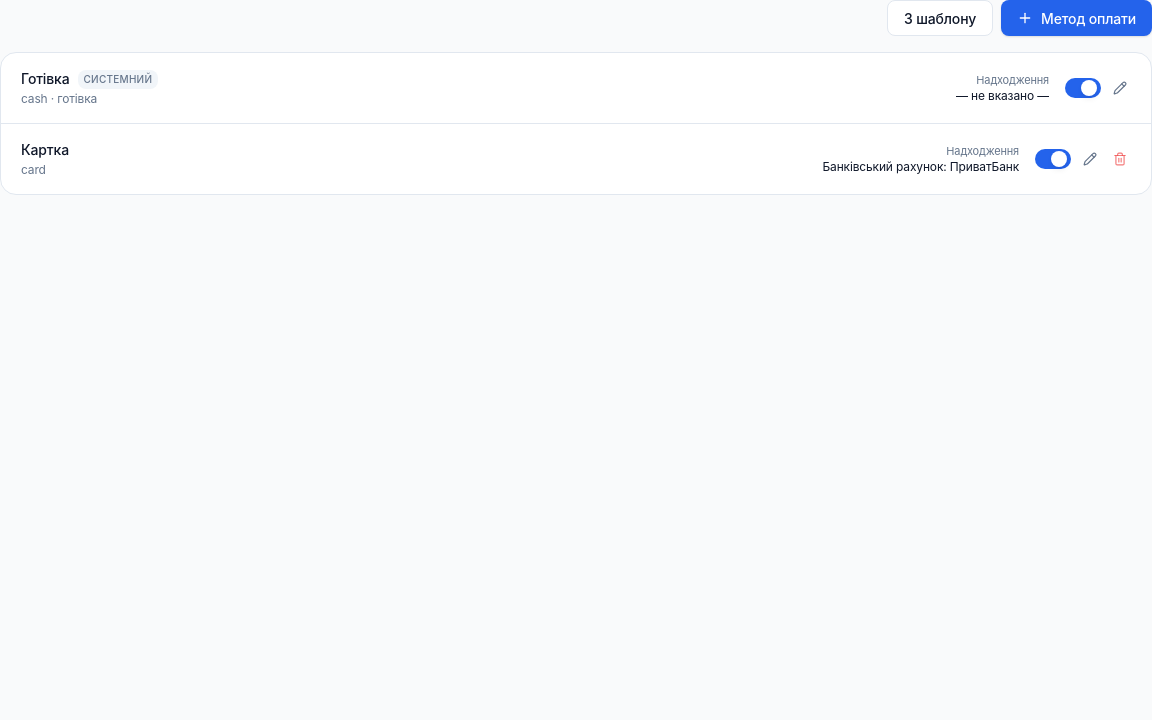
Scenario: НДІ → способи оплати: куди надходять кошти › «Готівці» задають касу: без вибраної каси зберегти не можна; запит несе тип і касу
Click the button named "Редагувати метод оплати: Готівка" at (1120, 88), box [1109,77,1131,99]
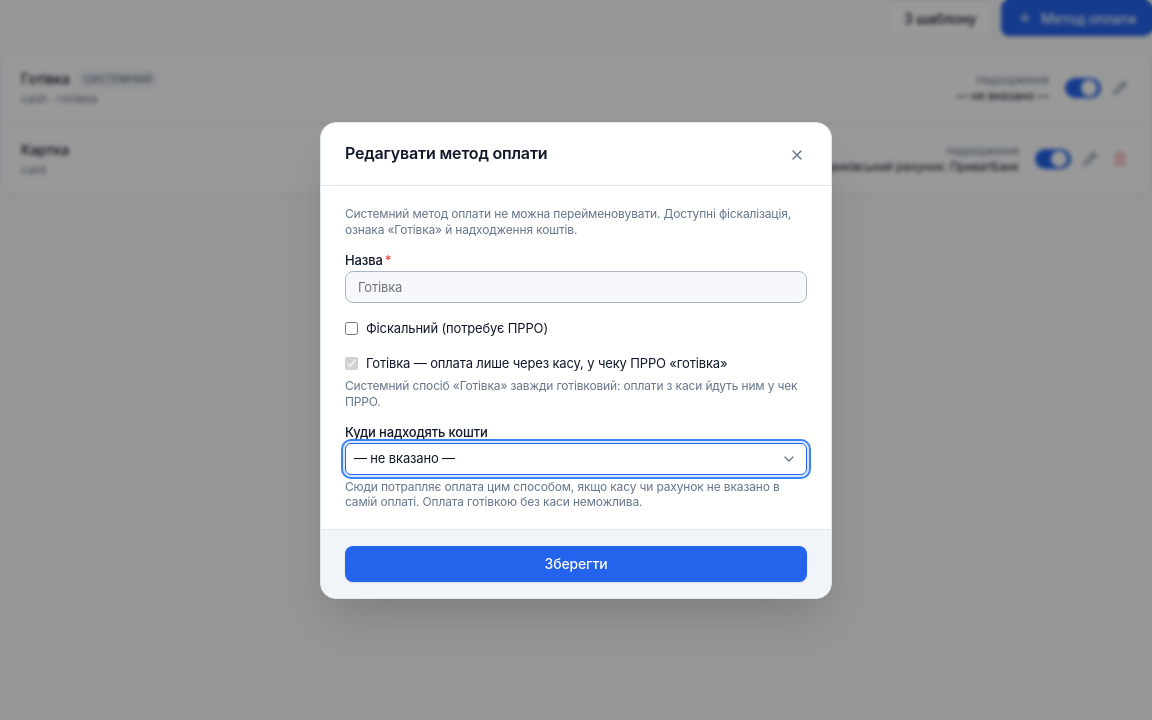
Select "Каса" in the dropdown labelled "Куди надходять кошти" at (576, 458), box [345,442,807,474]
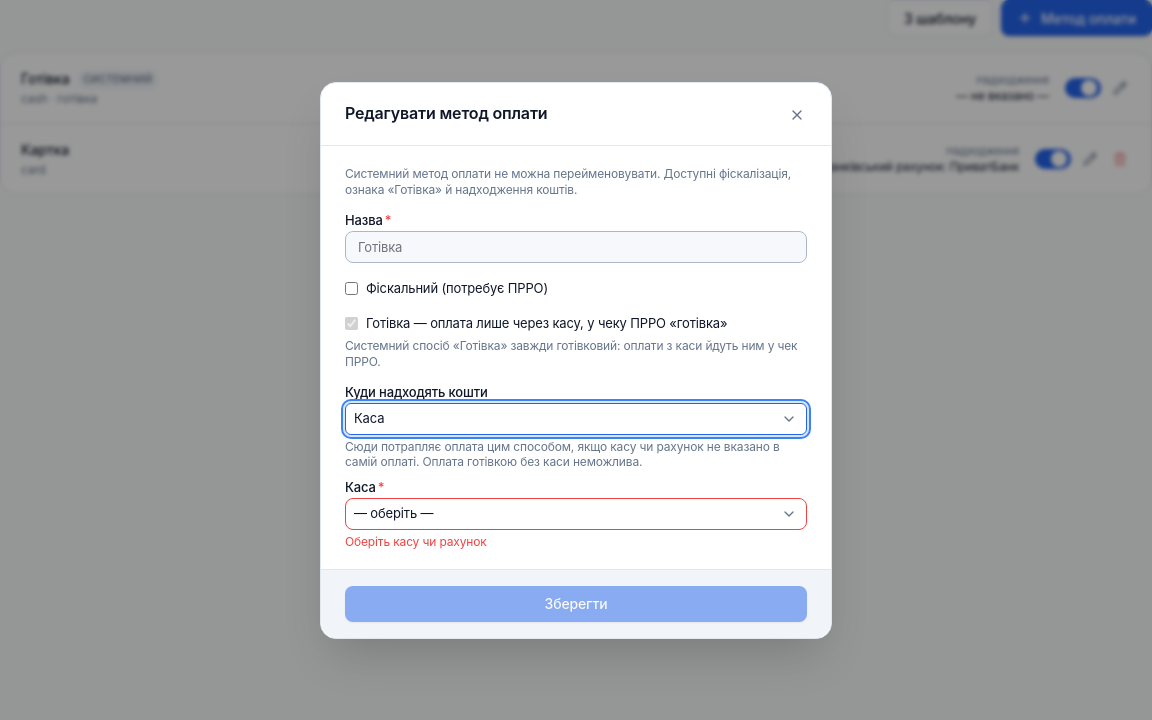
expect the dropdown labelled "Каса*" shows "— оберіть —": met
expect the button "Зберегти" is disabled: met, box [345,586,807,622]
expect the text "Оберіть касу чи рахунок" is shown: met, box [345,534,487,548]
Select "Каса головна" in the dropdown labelled "Каса*" at (576, 514), box [345,498,807,530]
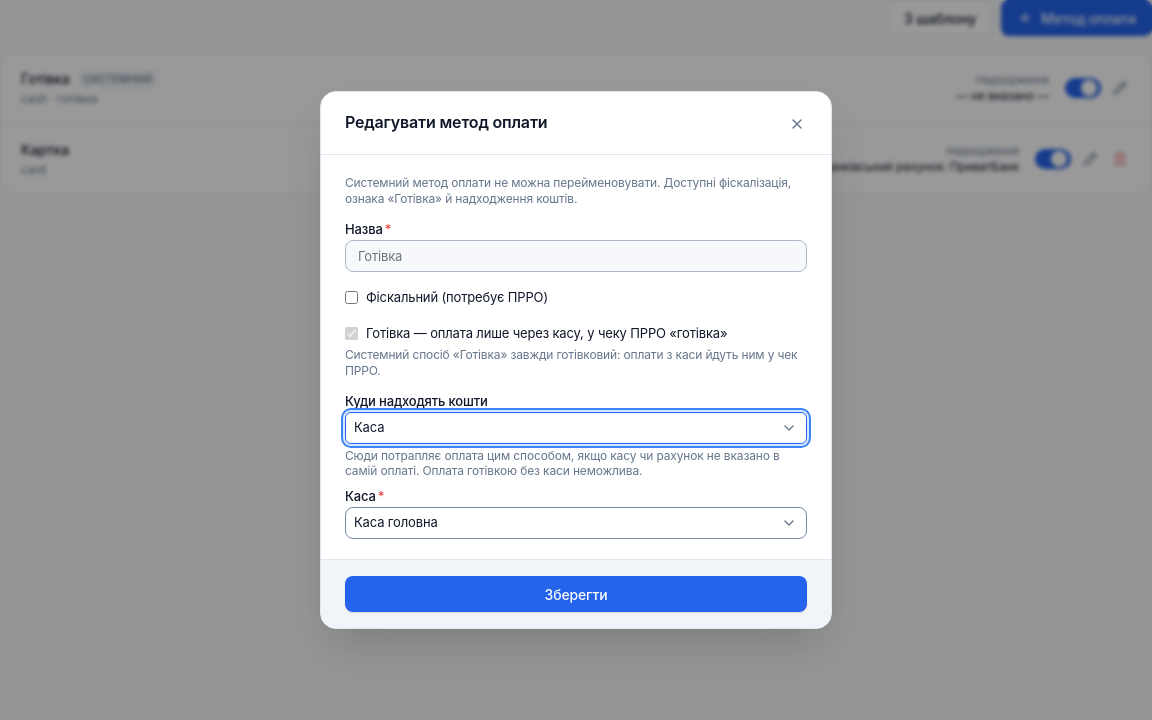
Click the button "Зберегти" at (576, 594), box [345,576,807,612]
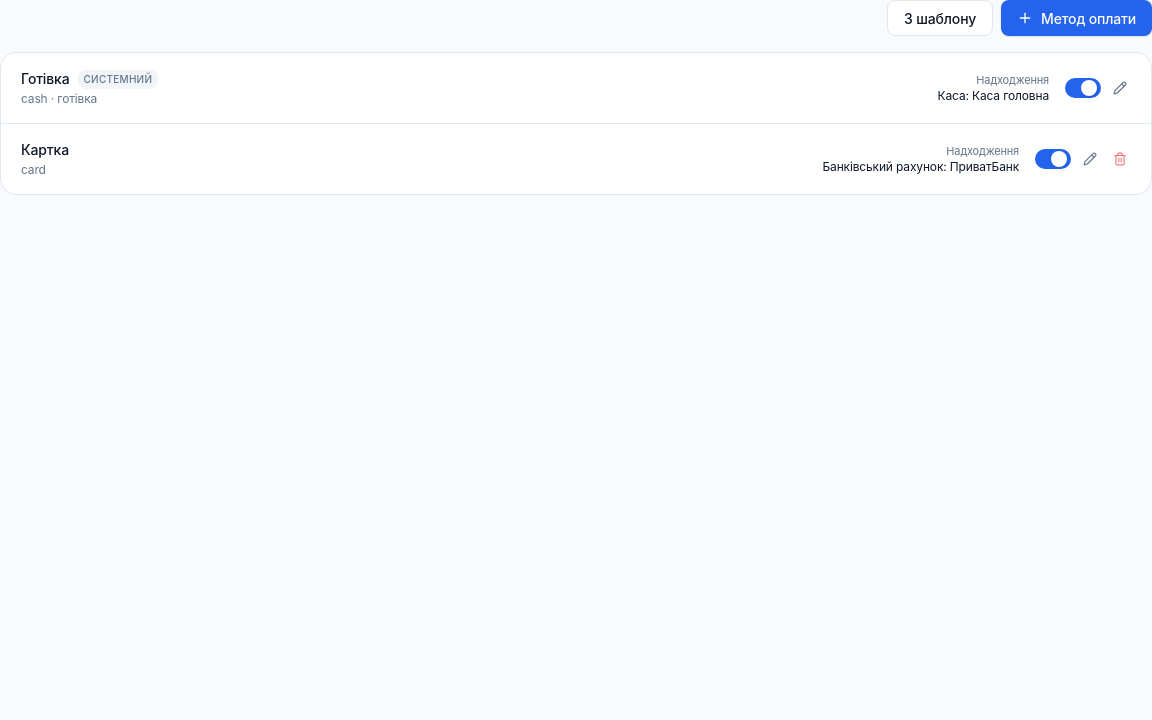
expect the text with test id "pm-destination-cash" reads "Каса: Каса головна": met, box [938,88,1049,103]
